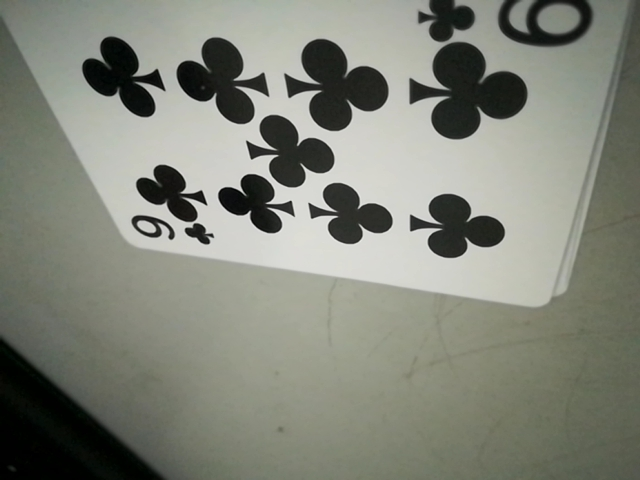mh 9: (417, 0, 598, 50), (122, 211, 215, 253)
